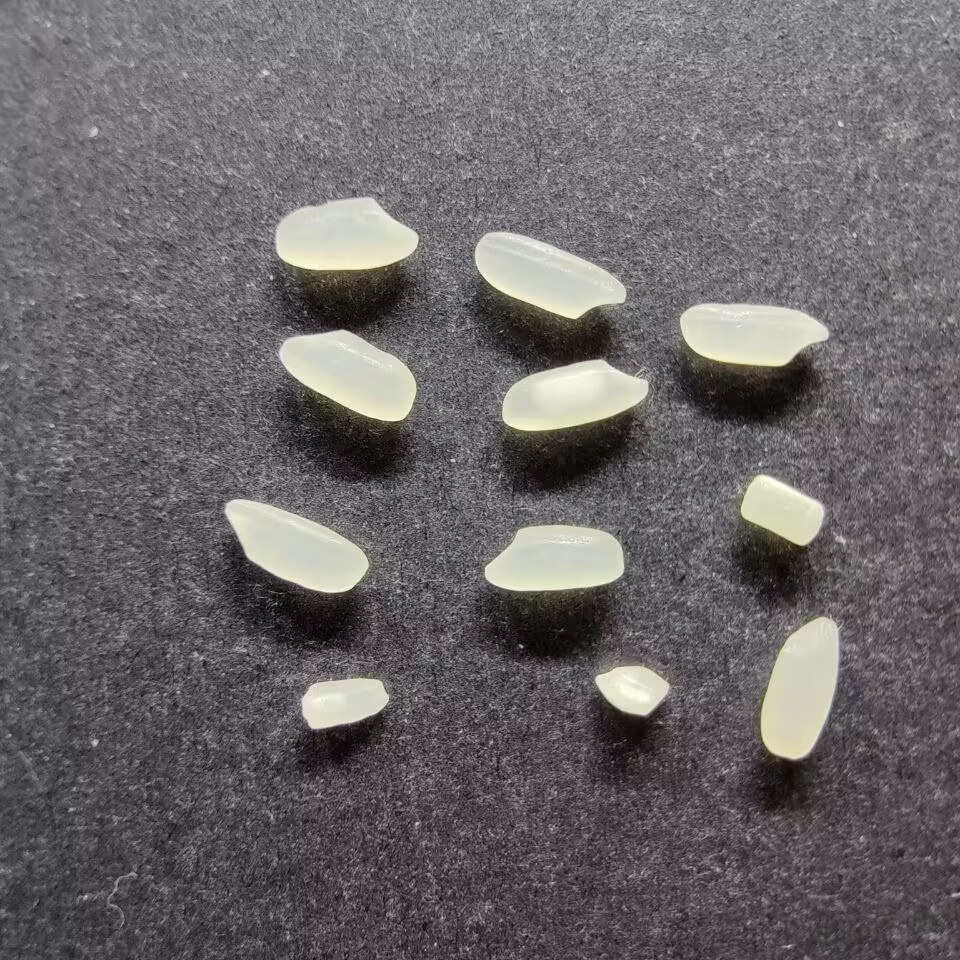broken: (738, 473, 825, 547), (300, 676, 390, 731), (594, 664, 670, 717)
rice: (223, 497, 368, 593), (473, 231, 627, 319), (277, 328, 416, 422), (759, 616, 841, 759), (500, 358, 649, 432), (274, 197, 419, 272), (482, 523, 625, 592), (678, 302, 829, 367)
